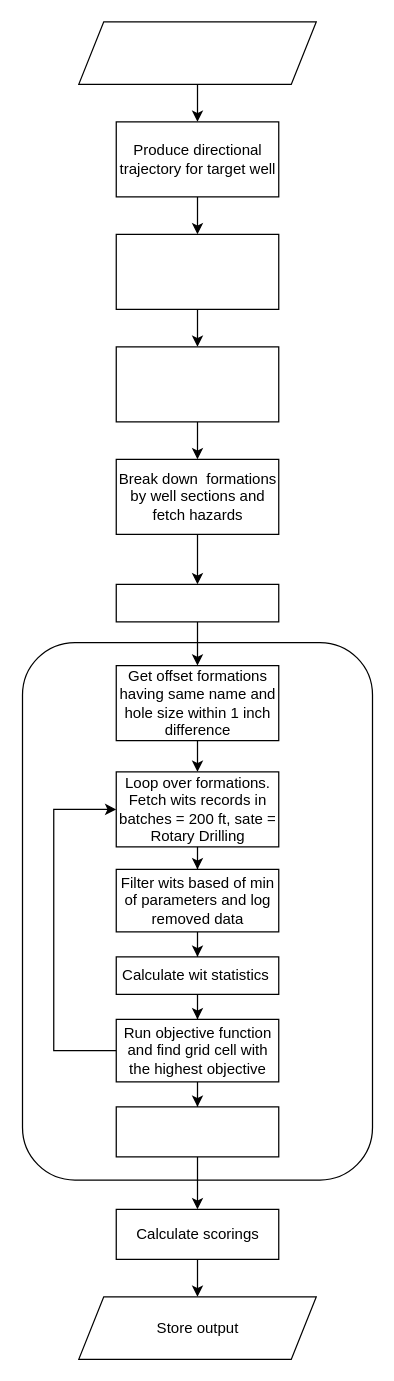
Some shapes in this 394 by 1381 pixel diagram are drawn without their labels. Each missing label, with the box of its shape:
Build output list of formations: (115, 1106, 279, 1157)
Calculate DRM: (115, 583, 279, 622)
Calculate MD of target formations and identify them in offset wells: (115, 233, 279, 309)
Calculate MD of the offset formations: (115, 346, 279, 422)
Fetch information for target and offset wells: (78, 21, 316, 84)
